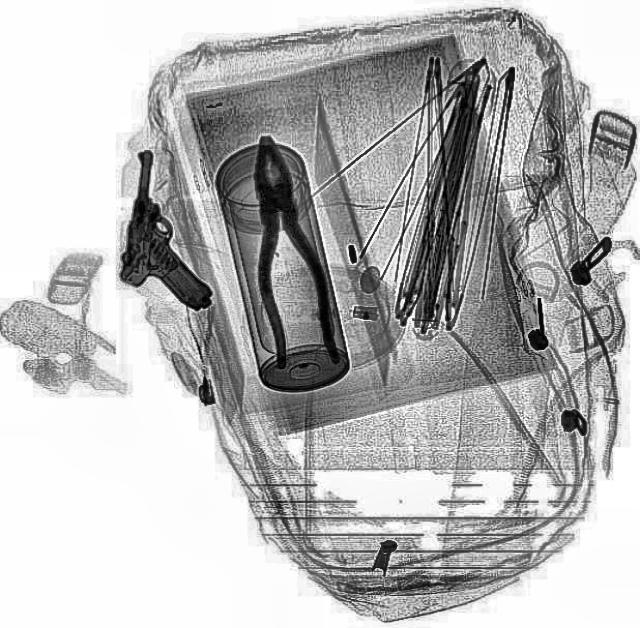Gun: (112, 146, 236, 310)
Pliers: (225, 128, 342, 374)
